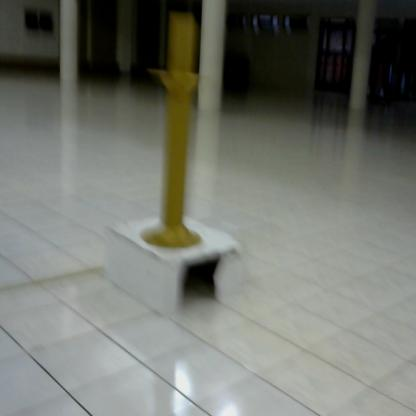pole: (139, 9, 219, 256)
